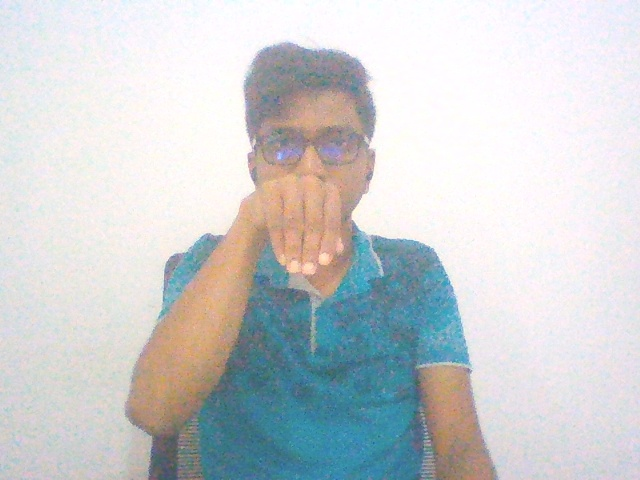Squirrel: (220, 156, 378, 296)
